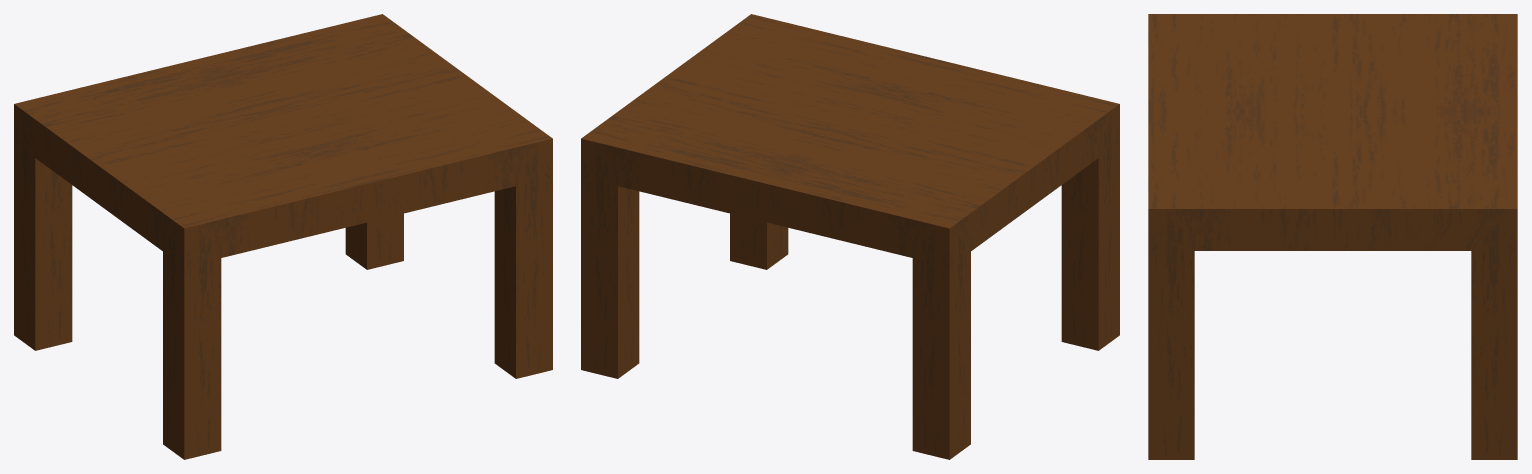
The model's file is Table.fbx.
3 renders of one model, left to right at view 1: azimuth 30°, elevation 25°; view 2: azimuth 150°, elevation 25°; view 3: azimuth 270°, elevation 25°, orthographic. The views are drawn at different scales.
Parts seen in each view (by area): view 1: Table; view 2: Table; view 3: Table.
Part boxes in pixels (bbox=[...]): Table: bbox=[14, 14, 552, 459]; Table: bbox=[581, 14, 1119, 459]; Table: bbox=[1148, 14, 1517, 459].
Size of the model in its own units: 1 by 0.6 by 0.8.
Materials: 1 (1 with a texture image).
